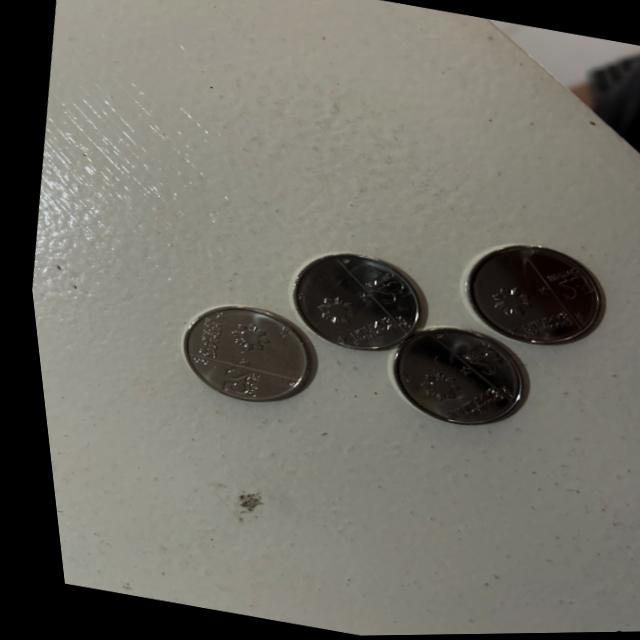25Cent_New_Front: (537, 265, 600, 309), (201, 362, 262, 402), (446, 337, 510, 374), (352, 269, 409, 309)
